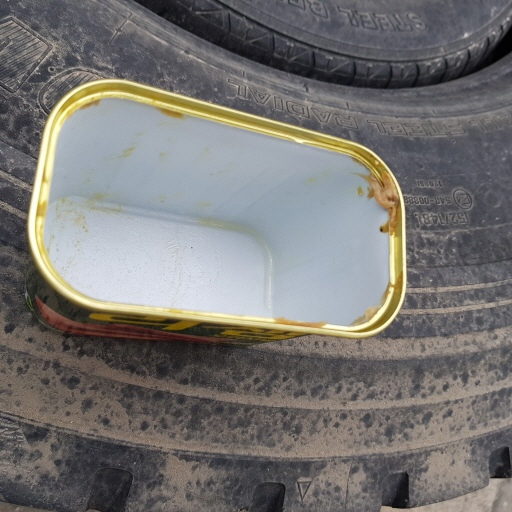Metal_2: (26, 79, 411, 350)
